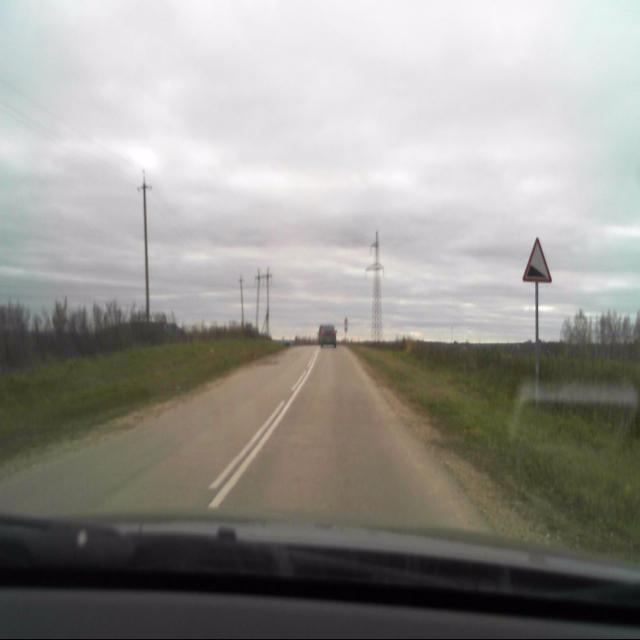object: (534, 284, 540, 412)
road sign: (522, 235, 552, 284)
